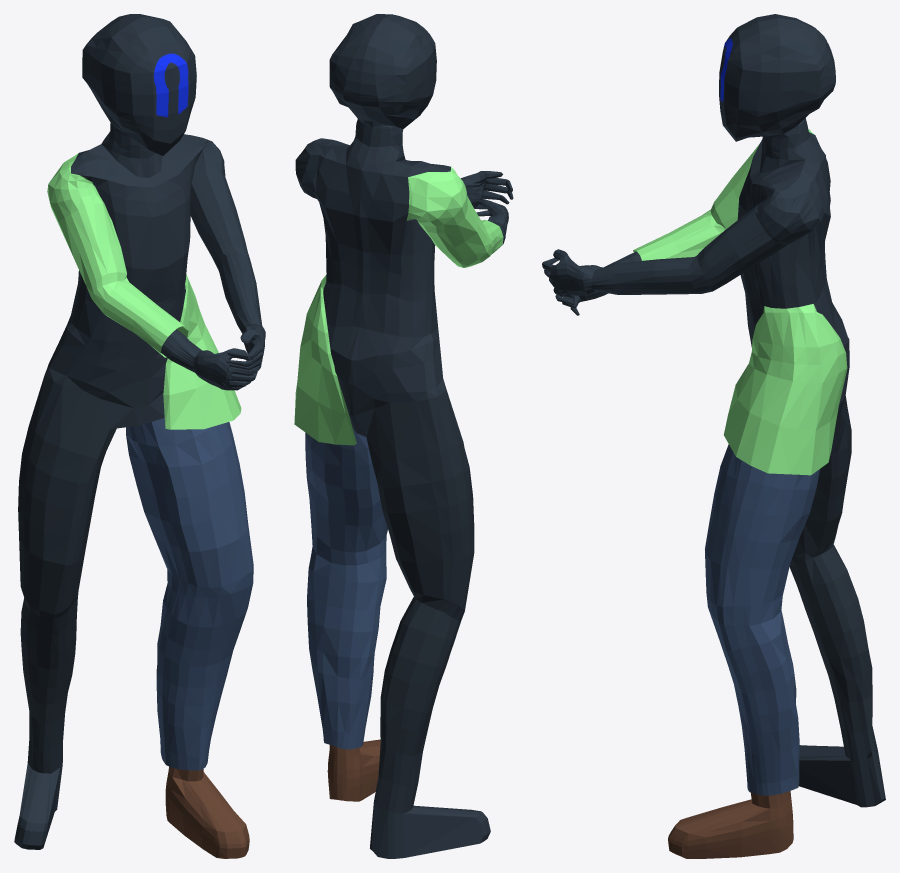
The model's file is Mar_WF_000016.obj.
3 renders of one model, left to right at view 1: azimuth 30°, elevation 25°; view 2: azimuth 150°, elevation 25°; view 3: azimuth 270°, elevation 25°, orthographic. The views are drawn at different scales.
Parts seen in each view (by area): view 1: Cube.000_Cube.001; view 2: Cube.000_Cube.001; view 3: Cube.000_Cube.001.
Part boxes in pixels (x1,y1,x2,y2): Cube.000_Cube.001: (14,14,265,858); Cube.000_Cube.001: (294,14,513,858); Cube.000_Cube.001: (542,14,885,858).
Size of the model in its own units: 1.05 by 3.9 by 1.5.
